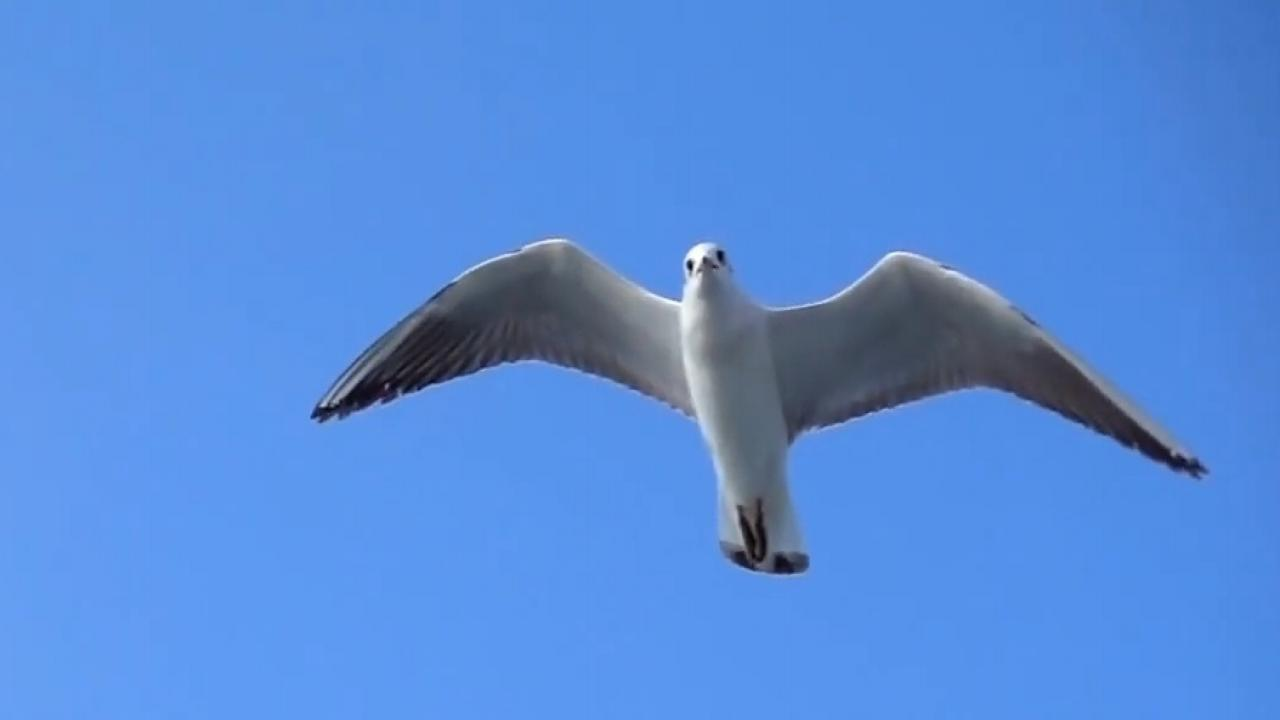Bird: (304, 232, 1216, 582)
